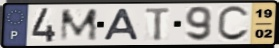4: (30, 7, 58, 44)
9: (183, 6, 214, 43)
A: (101, 8, 141, 42)
C: (215, 5, 251, 43)
M: (58, 7, 100, 43)
T: (144, 7, 172, 43)
